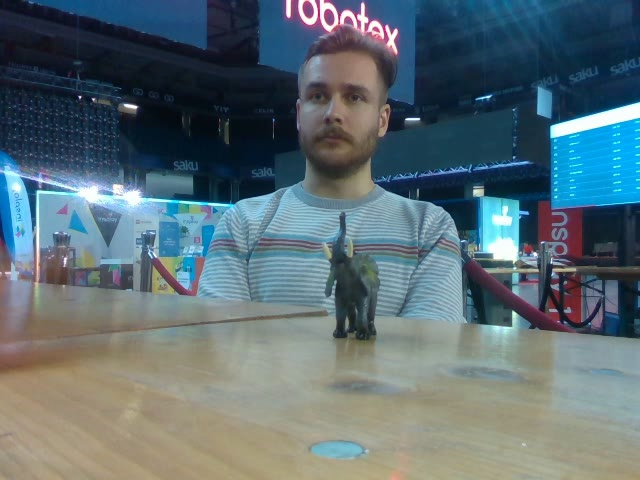toy: (320, 212, 380, 340)
